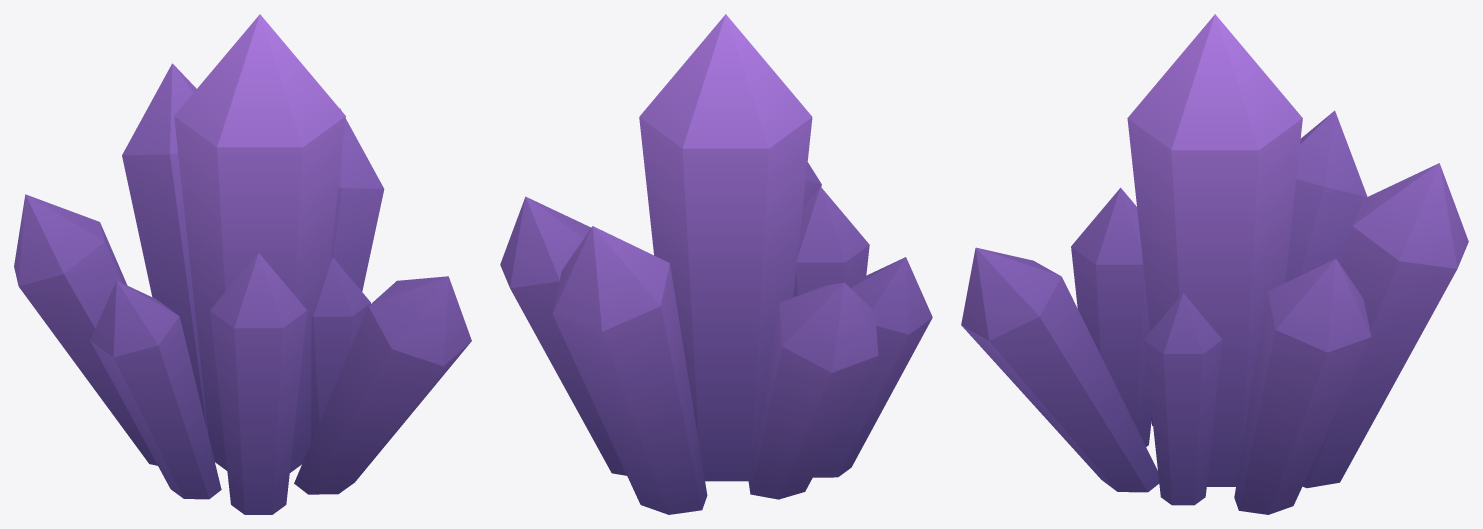
File: Crystal_P_21.glb
The picture shows the model from 3 angles, left to right: view 1: azimuth 30°, elevation 25°; view 2: azimuth 150°, elevation 25°; view 3: azimuth 270°, elevation 25°; orthographic projection. The views are drawn at different scales.
Visible parts, largest first — view 1: crystal_21; view 2: crystal_21; view 3: crystal_21.
Boxes of the visible parts, x1,y1,x2,y2 form: crystal_21: (14, 14, 471, 514); crystal_21: (500, 14, 932, 514); crystal_21: (961, 14, 1468, 514).
Size of the model in its own units: 0.8475 by 0.9933 by 1.
1 material, 1 textured.
